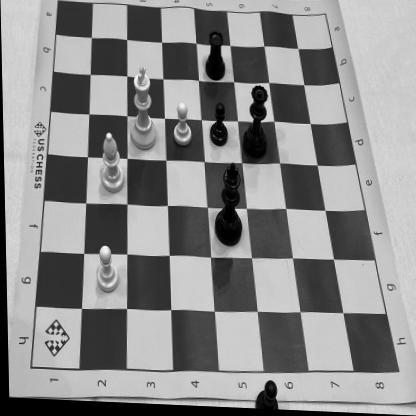black-king: (211, 160, 242, 252)
black-pawn: (207, 104, 230, 150)
black-queen: (240, 81, 268, 162)
black-rook: (201, 28, 226, 86)
white-bishop: (96, 133, 125, 198)
white-king: (126, 66, 158, 156)
white-pawn: (92, 246, 120, 299), (170, 102, 192, 150)
